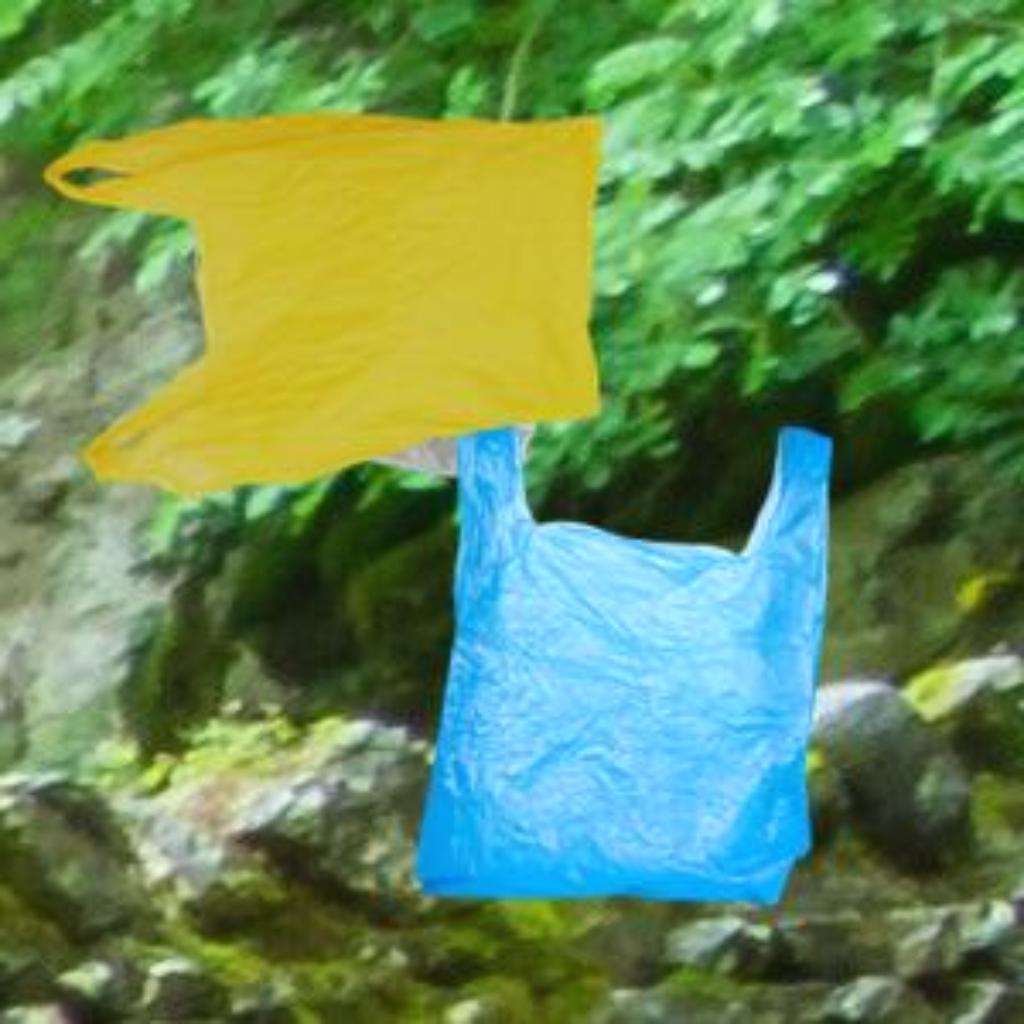garbage: (367, 377, 882, 923), (22, 77, 623, 507)
